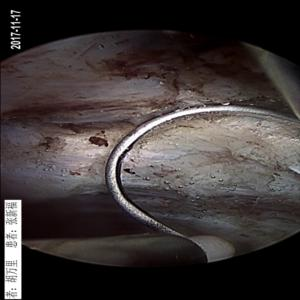film: (24, 192, 297, 243), (1, 93, 243, 142)
